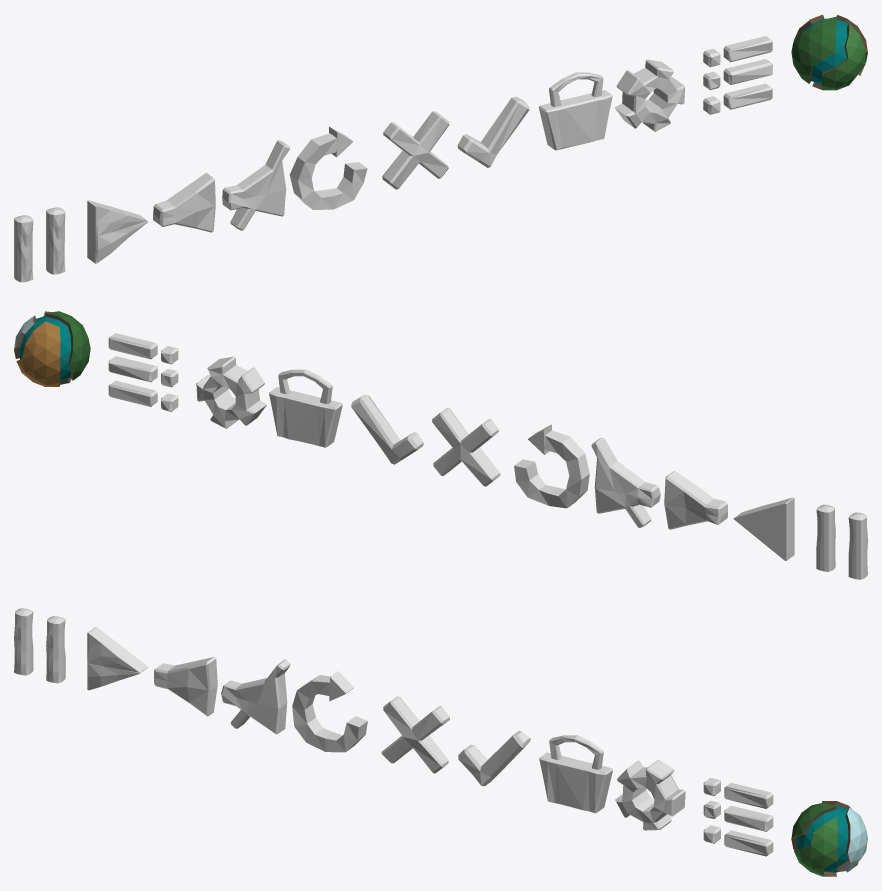
File: icons.fbx
3 views of the same model, one above another, from view 1: azimuth 30°, elevation 25°; view 2: azimuth 150°, elevation 25°; view 3: azimuth 330°, elevation 25° (orthographic).
Parts seen in each view (by area): view 1: SM_home_SH, SM_shop_SH, SM_settings_SH, SM_menu_SH, SM_replay_SH, SM_unmute_SH1, SM_no_SH, SM_pause_SH, SM_unmute_SH, SM_resume_SH, SM_yes_SH; view 2: SM_home_SH, SM_shop_SH, SM_settings_SH, SM_menu_SH, SM_replay_SH, SM_unmute_SH1, SM_no_SH, SM_pause_SH, SM_unmute_SH, SM_resume_SH, SM_yes_SH; view 3: SM_home_SH, SM_shop_SH, SM_settings_SH, SM_menu_SH, SM_replay_SH, SM_unmute_SH1, SM_no_SH, SM_pause_SH, SM_unmute_SH, SM_resume_SH, SM_yes_SH.
Part boxes in pixels (<box>): SM_home_SH: <box>791,14,867,90</box>; SM_shop_SH: <box>538,72,612,150</box>; SM_settings_SH: <box>614,59,684,131</box>; SM_menu_SH: <box>703,36,772,114</box>; SM_replay_SH: <box>289,126,367,209</box>; SM_unmute_SH1: <box>222,140,289,230</box>; SM_no_SH: <box>382,111,449,189</box>; SM_pause_SH: <box>14,207,65,282</box>; SM_unmute_SH: <box>153,173,215,232</box>; SM_resume_SH: <box>87,200,148,263</box>; SM_yes_SH: <box>457,96,529,167</box>; SM_home_SH: <box>14,311,90,386</box>; SM_shop_SH: <box>269,369,342,447</box>; SM_settings_SH: <box>196,356,266,428</box>; SM_menu_SH: <box>108,333,178,411</box>; SM_replay_SH: <box>514,424,589,508</box>; SM_unmute_SH1: <box>591,437,660,527</box>; SM_no_SH: <box>432,408,500,486</box>; SM_pause_SH: <box>816,504,867,579</box>; SM_unmute_SH: <box>664,471,727,529</box>; SM_resume_SH: <box>733,497,794,560</box>; SM_yes_SH: <box>351,394,423,464</box>; SM_home_SH: <box>791,801,867,876</box>; SM_shop_SH: <box>539,735,612,813</box>; SM_settings_SH: <box>615,760,685,830</box>; SM_menu_SH: <box>703,777,773,856</box>; SM_replay_SH: <box>292,671,367,752</box>; SM_unmute_SH1: <box>221,659,290,734</box>; SM_no_SH: <box>381,696,449,773</box>; SM_pause_SH: <box>14,608,65,683</box>; SM_unmute_SH: <box>154,657,217,716</box>; SM_resume_SH: <box>87,627,148,690</box>; SM_yes_SH: <box>458,730,530,786</box>.
Size of the model in its own units: 68.79 by 5.32 by 6.03.
